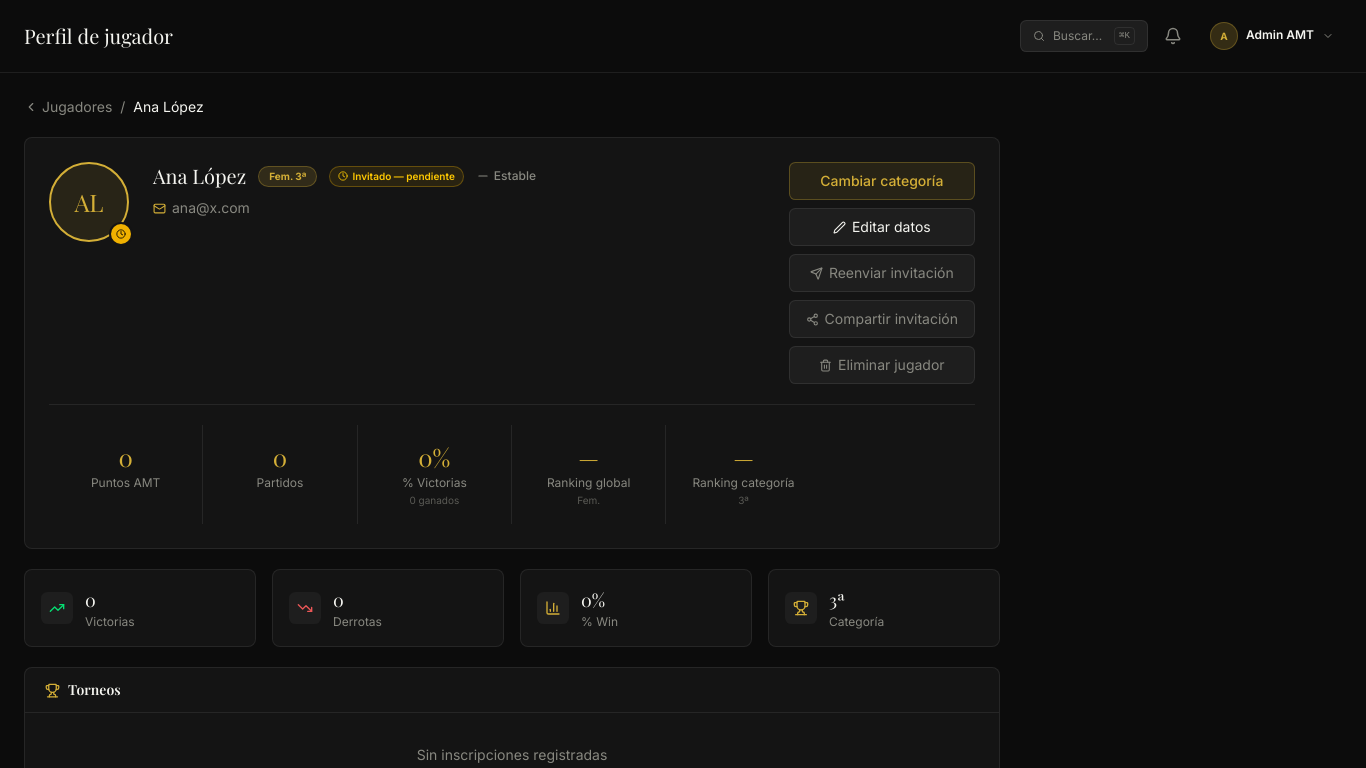
it: JugadorDetailPage — «Editar datos» y el email de quien ya usa la app › si activó la cuenta mientras se editaba, dice el error del back y el formulario pasa a no dejar vaciarlo
The image size is (1366, 768).
Step 1. Click the button "Editar datos" → (882, 227), box [789,208,975,246]
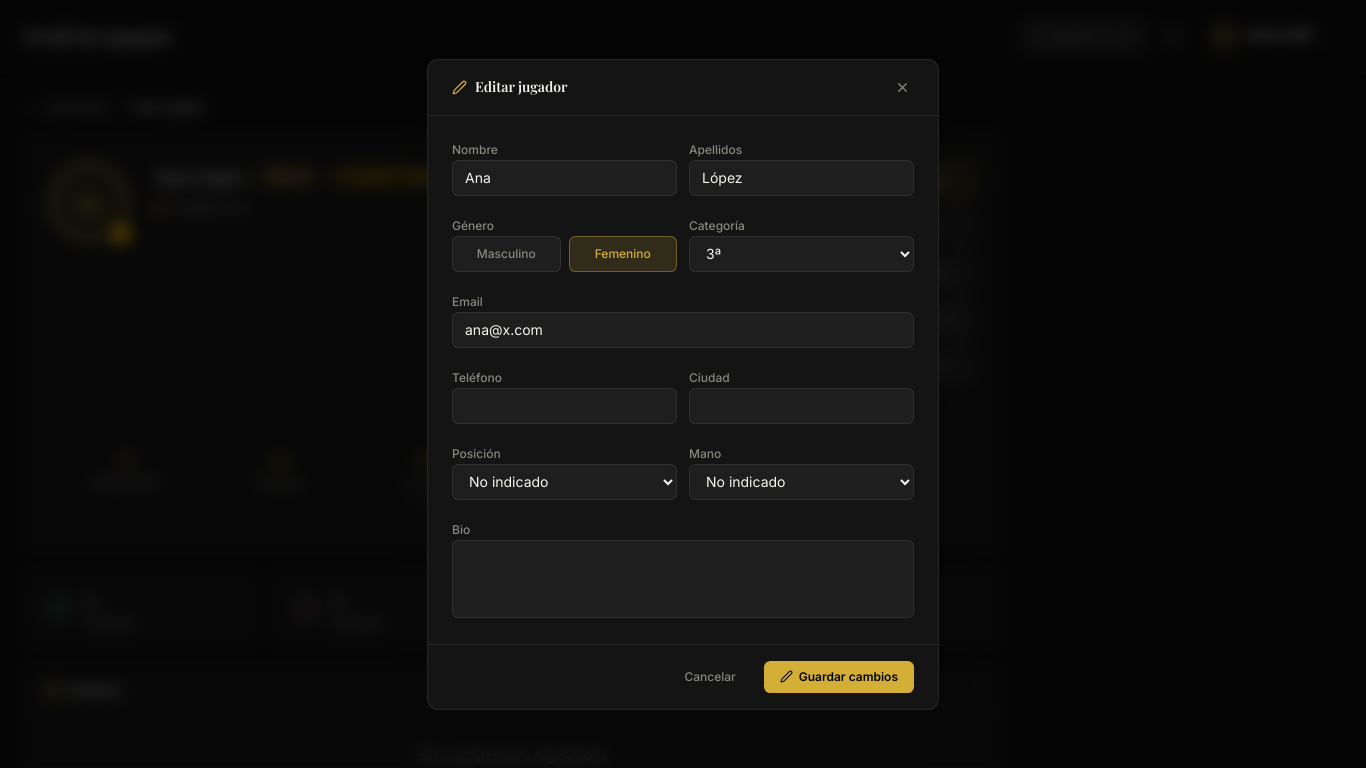
Step 2. Clear the field showing "ana@x.com" below "Email" → (683, 330), box [452,312,914,348]
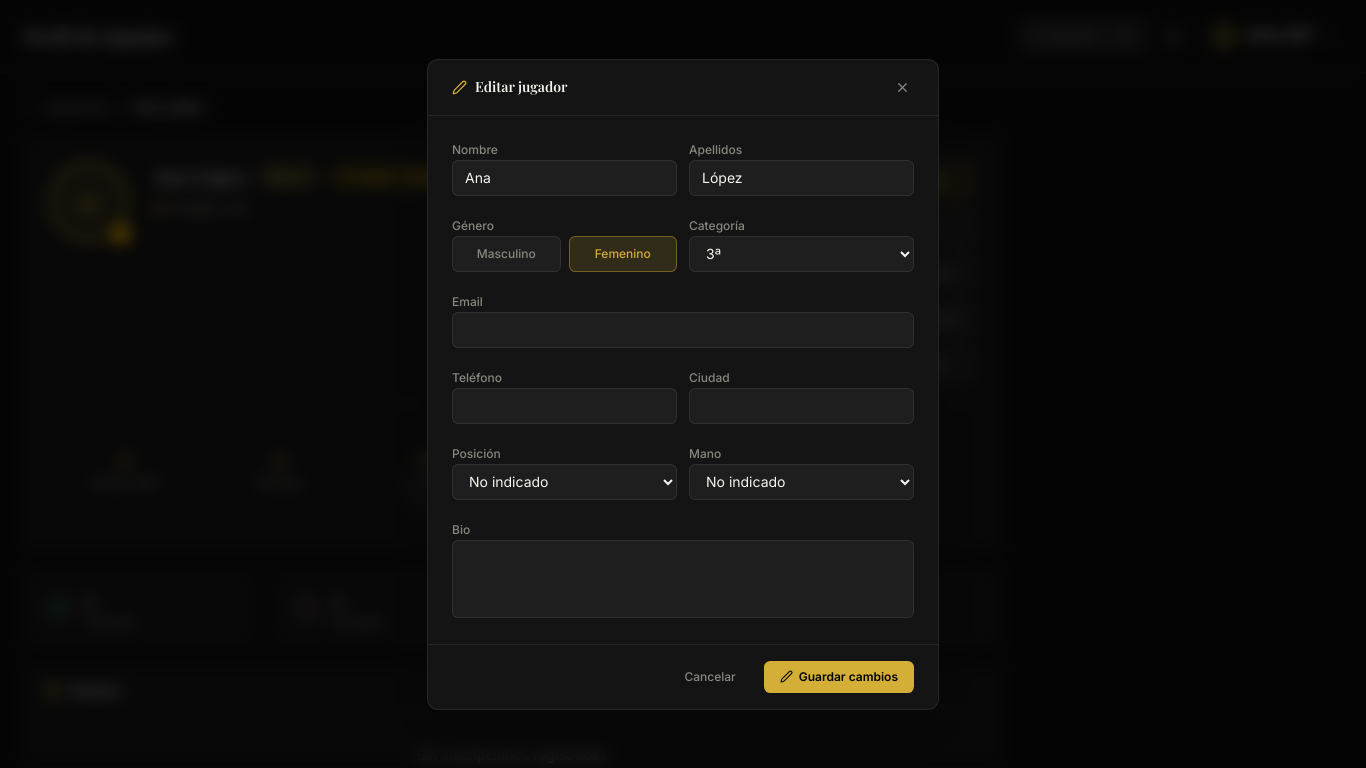
Step 3. Click the button "Guardar cambios" → (839, 676), box [764,660,914,692]
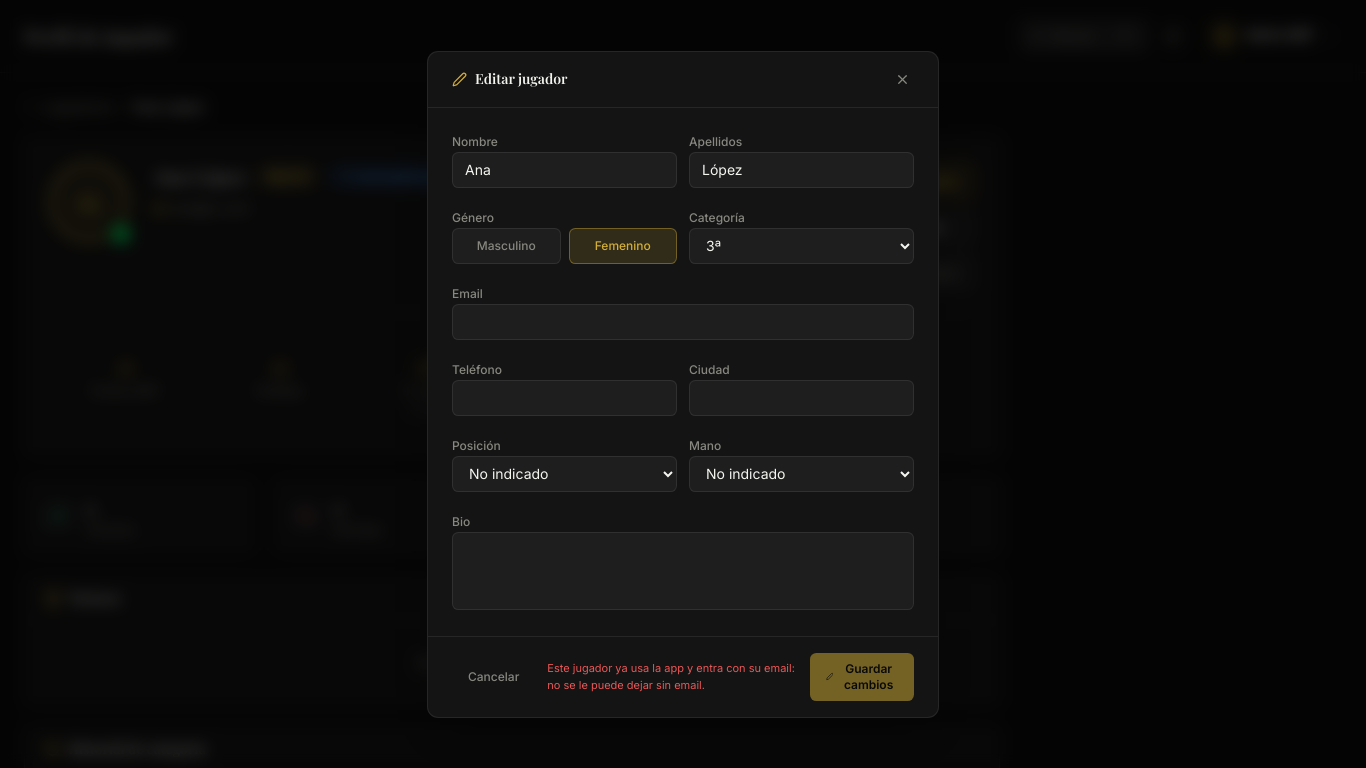
Check: the text "no se le puede dejar sin email" is shown, box [547,661,795,692]
Check: the button "Guardar cambios" is disabled, box [810,652,914,700]
